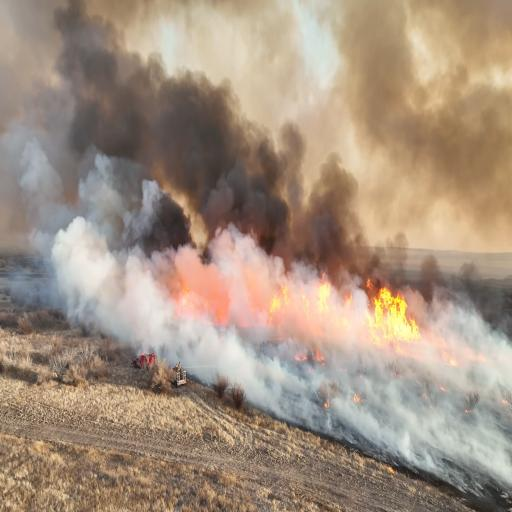fire: (374, 276, 416, 348)
smoke: (332, 16, 486, 217), (52, 182, 157, 351), (155, 49, 260, 201), (56, 11, 155, 168), (166, 243, 290, 364), (260, 152, 360, 251)
